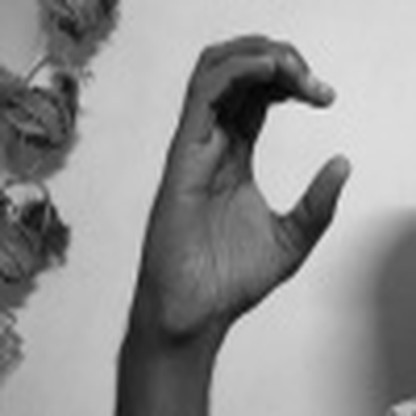c: (141, 25, 358, 311)
